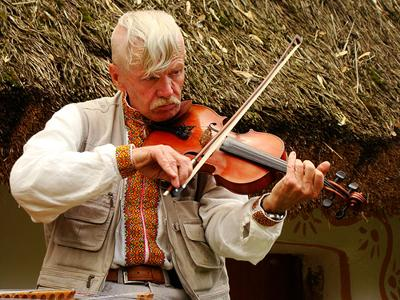person: (10, 11, 333, 300)
